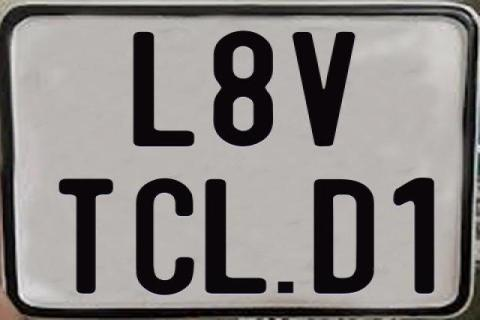0: (210, 29, 276, 145), (393, 177, 435, 295)
C: (135, 176, 197, 294)
D: (311, 179, 375, 293)
L: (203, 179, 268, 297), (132, 30, 197, 146)
T: (57, 178, 117, 294)
V: (291, 29, 359, 145)
